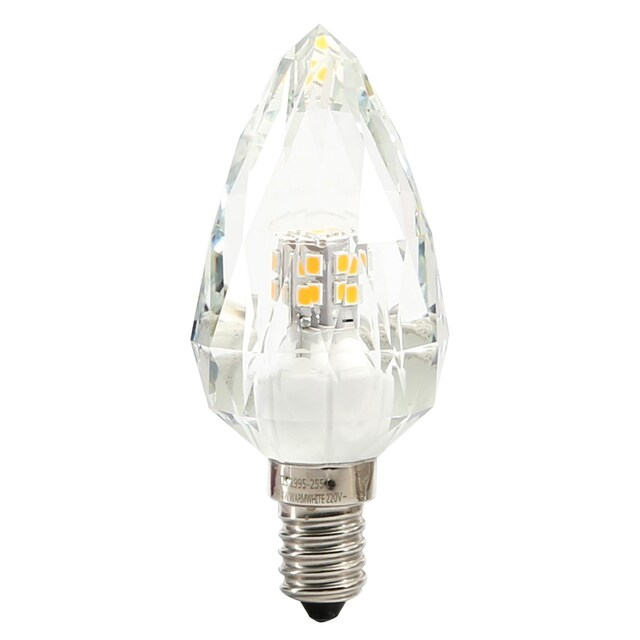Light_bulb: (182, 17, 465, 627)
